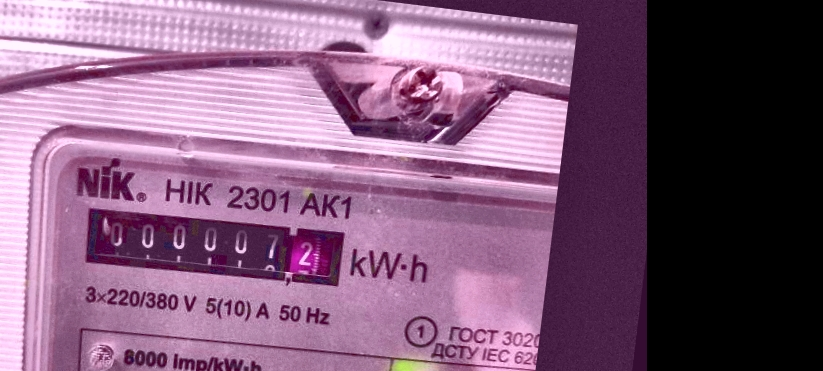0: (106, 218, 126, 247), (200, 223, 220, 252), (231, 226, 250, 256), (138, 220, 157, 249), (169, 221, 188, 250)
2: (296, 239, 315, 267)
7: (262, 229, 281, 261)
screen: (70, 193, 357, 299)
